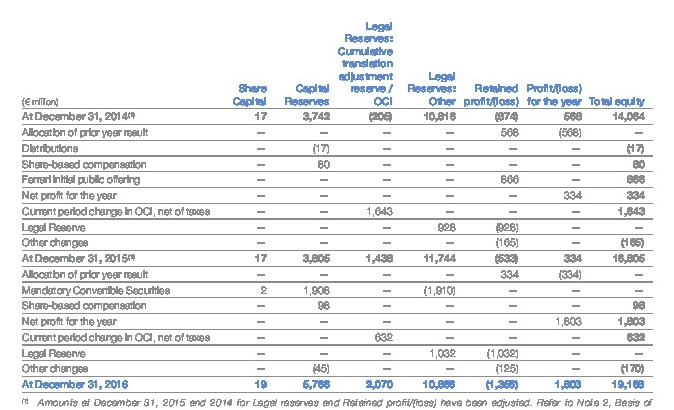table: (0, 0, 674, 410)
